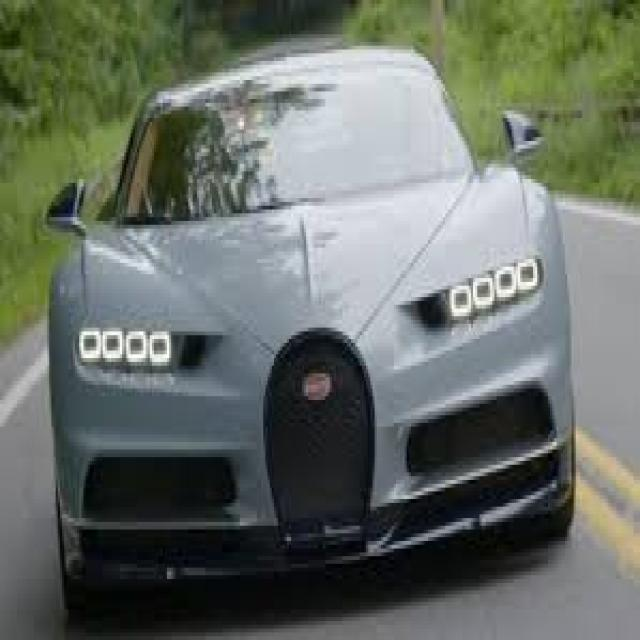Car: (45, 34, 580, 640)
